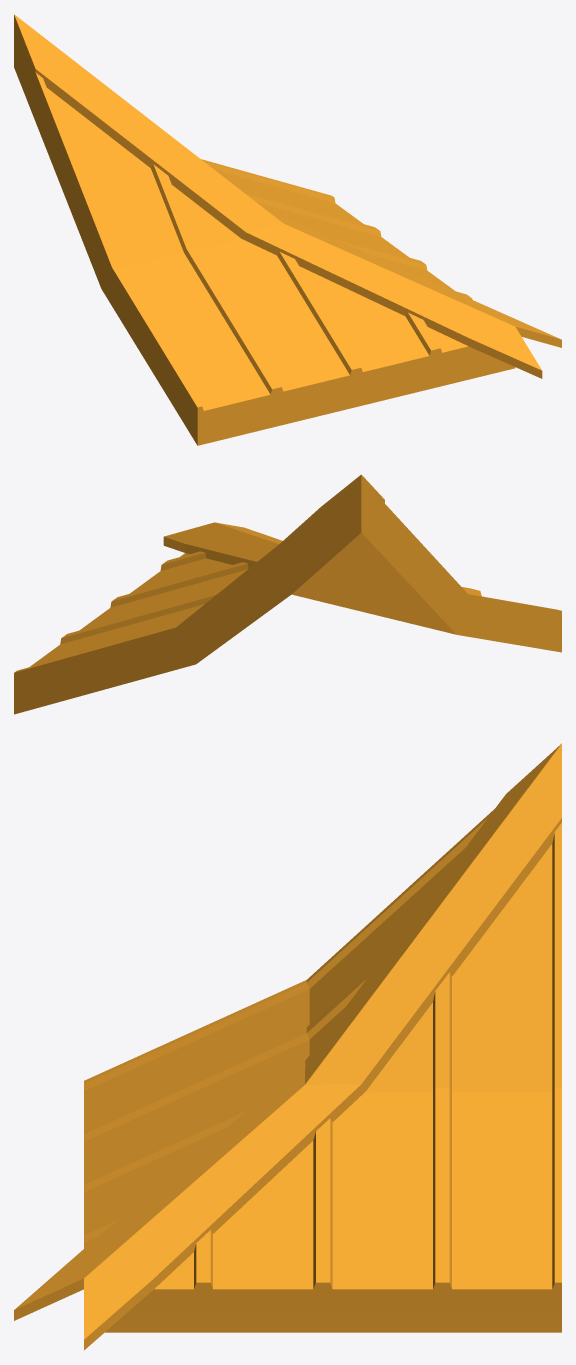
Rendered from SM_Roof_Metal_Moderate_Regular_2x2m_Corner_A.fbx.
3 renders of one model, top to bottom at view 1: azimuth 30°, elevation 25°; view 2: azimuth 150°, elevation 25°; view 3: azimuth 270°, elevation 25°, orthographic. The views are drawn at different scales.
Parts seen in each view (by area): view 1: roof-metal-moderate-regular-2x2m-corner-a; view 2: roof-metal-moderate-regular-2x2m-corner-a; view 3: roof-metal-moderate-regular-2x2m-corner-a.
Part boxes in pixels (x1,y1,x2,y2): roof-metal-moderate-regular-2x2m-corner-a: [14, 14, 561, 445]; roof-metal-moderate-regular-2x2m-corner-a: [14, 474, 561, 714]; roof-metal-moderate-regular-2x2m-corner-a: [14, 743, 561, 1350].
Bounding box in the file's own units: 2.29 × 1.79 × 2.29.
